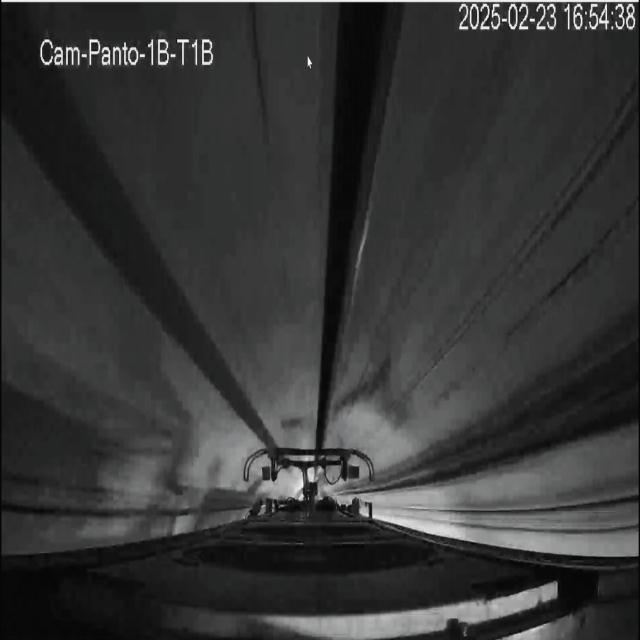Camera Stamp: (36, 30, 220, 71)
Date Stamp: (458, 3, 637, 33)
No - Spark: (244, 444, 375, 512)
